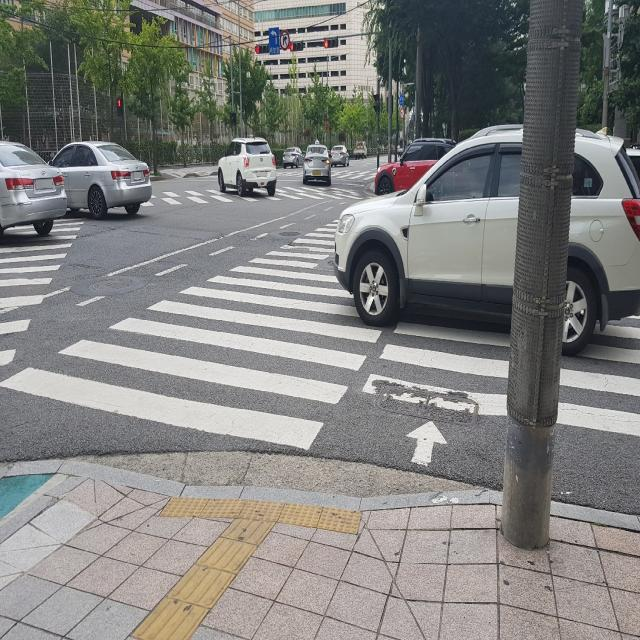빨간불: (116, 95, 123, 122)
횡단보도: (0, 213, 640, 471), (129, 172, 379, 205)
